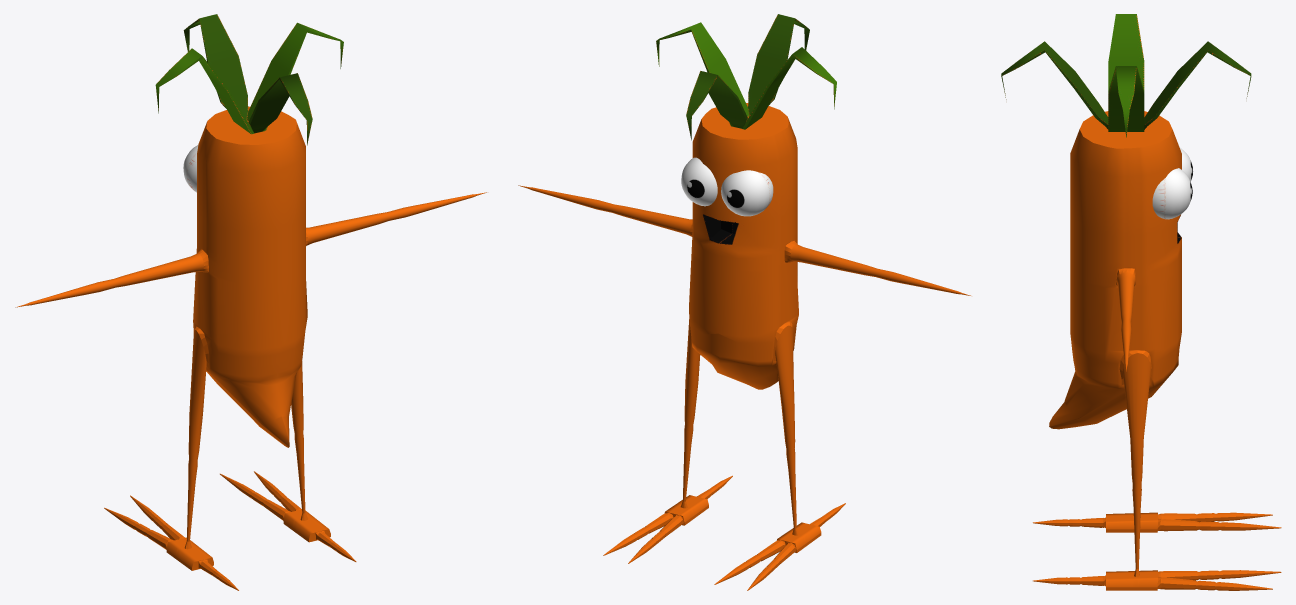
The model's file is ConradJoseph.fbx.
3 renders of one model, left to right at view 1: azimuth 30°, elevation 25°; view 2: azimuth 150°, elevation 25°; view 3: azimuth 270°, elevation 25°, orthographic. The views are drawn at different scales.
Visible parts, largest first — view 1: polySurface9; view 2: polySurface9; view 3: polySurface9.
Boxes of the visible parts, x1,y1,x2,y2 form: polySurface9: (15,14,486,590); polySurface9: (518,14,970,590); polySurface9: (1001,14,1281,590).
Bounding box in the file's own units: 19.92 × 20.41 × 10.05.
